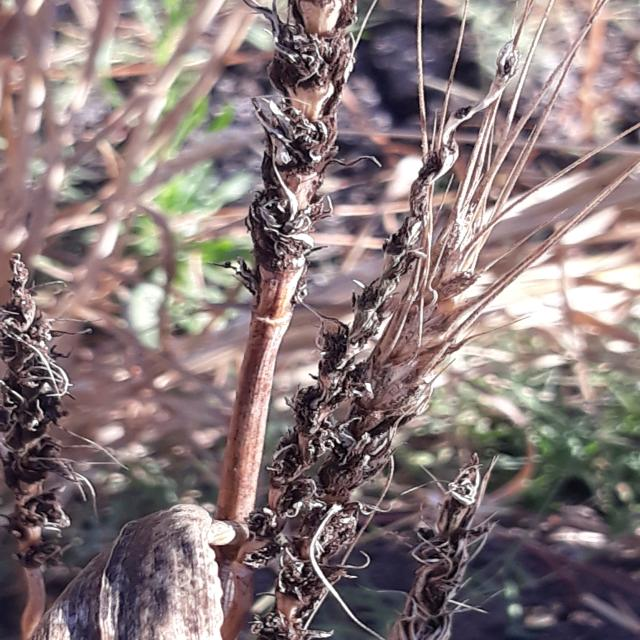loose_charred: (227, 23, 548, 640), (198, 0, 366, 538), (0, 225, 89, 640), (37, 482, 217, 640), (387, 465, 531, 640)
